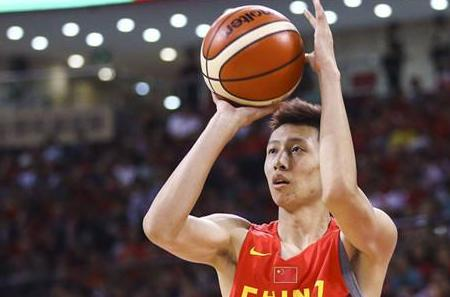ball: (199, 4, 305, 108)
